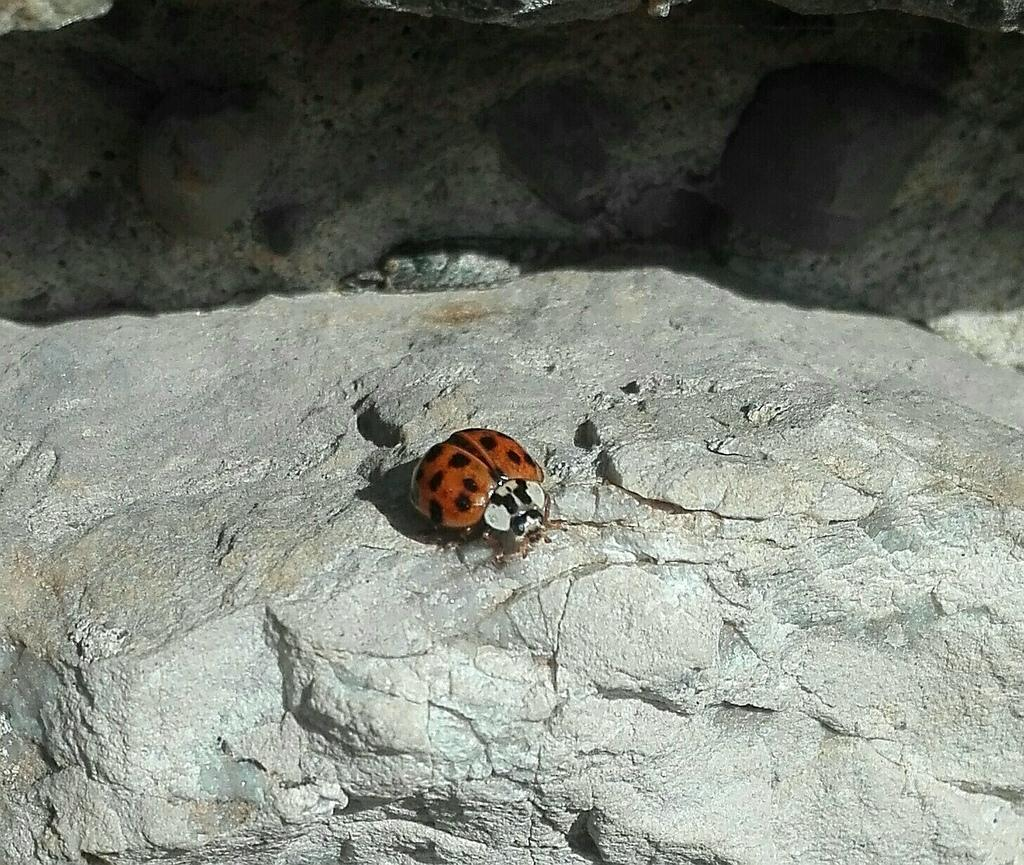ladybug: (406, 424, 574, 549)
